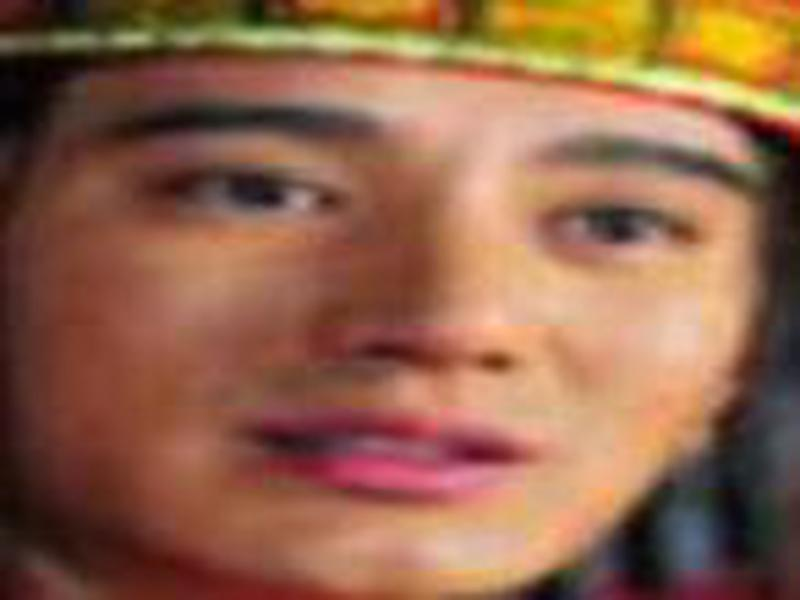without_mask: (19, 63, 753, 589)
